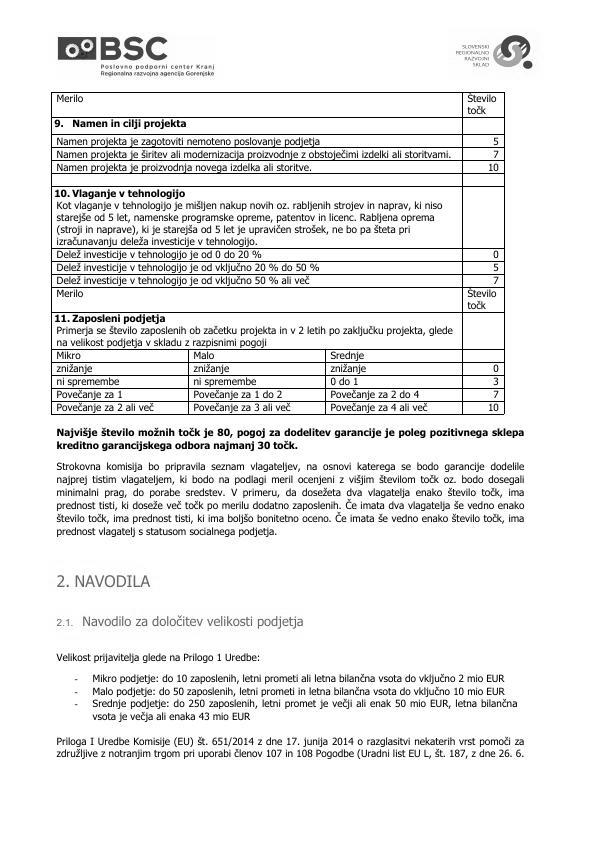table: (47, 88, 508, 419)
text: (54, 460, 530, 539), (89, 670, 523, 724), (54, 735, 530, 767), (54, 425, 528, 453), (52, 611, 305, 632), (54, 650, 262, 664), (55, 572, 155, 591)
